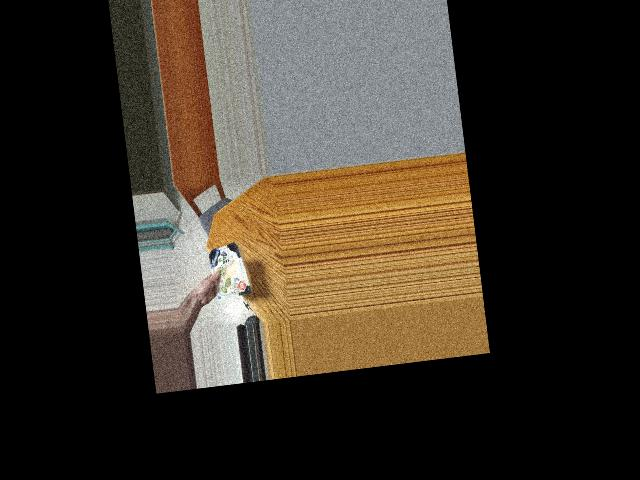cheese: (201, 245, 249, 293)
